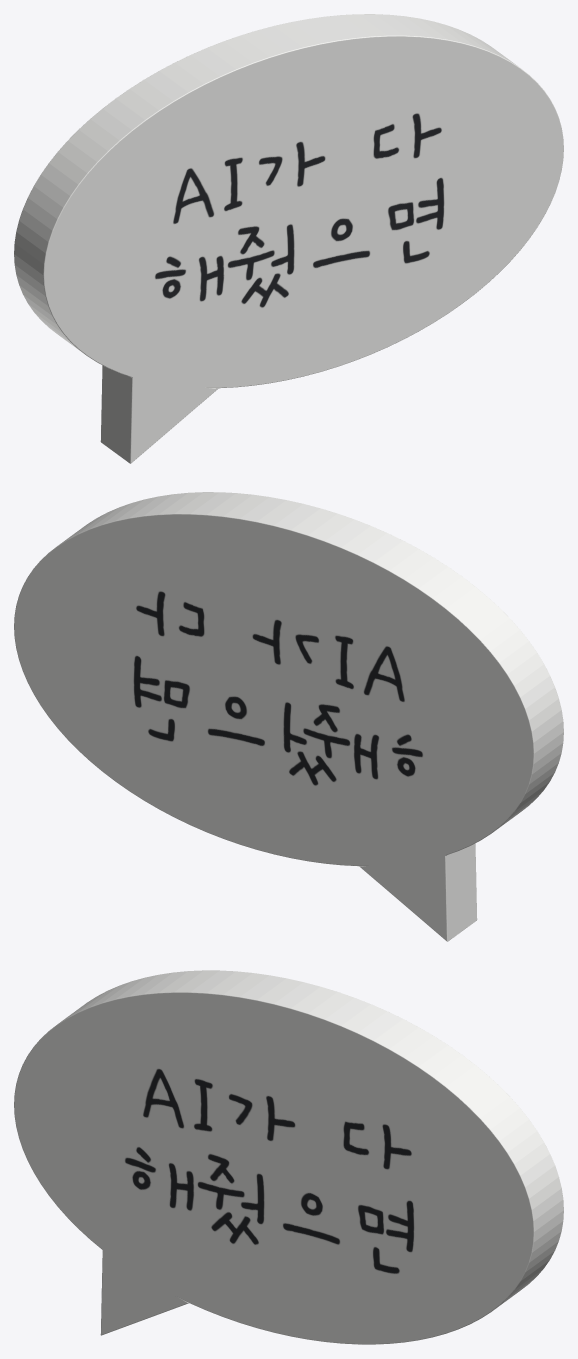
The model's file is obj-bubble.glb.
The picture shows the model from 3 angles, top to bottom: view 1: azimuth 30°, elevation 25°; view 2: azimuth 150°, elevation 25°; view 3: azimuth 330°, elevation 25°; orthographic projection.
Parts seen in each view (by area): view 1: bubble; view 2: bubble; view 3: bubble.
Boxes of the visible parts, x1,y1,x2,y2 form: bubble: (14,14,563,463); bubble: (14,492,563,941); bubble: (14,970,563,1344).
Size of the model in its own units: 0.48 by 0.3298 by 0.048.
Materials: 1 (1 with a texture image).
